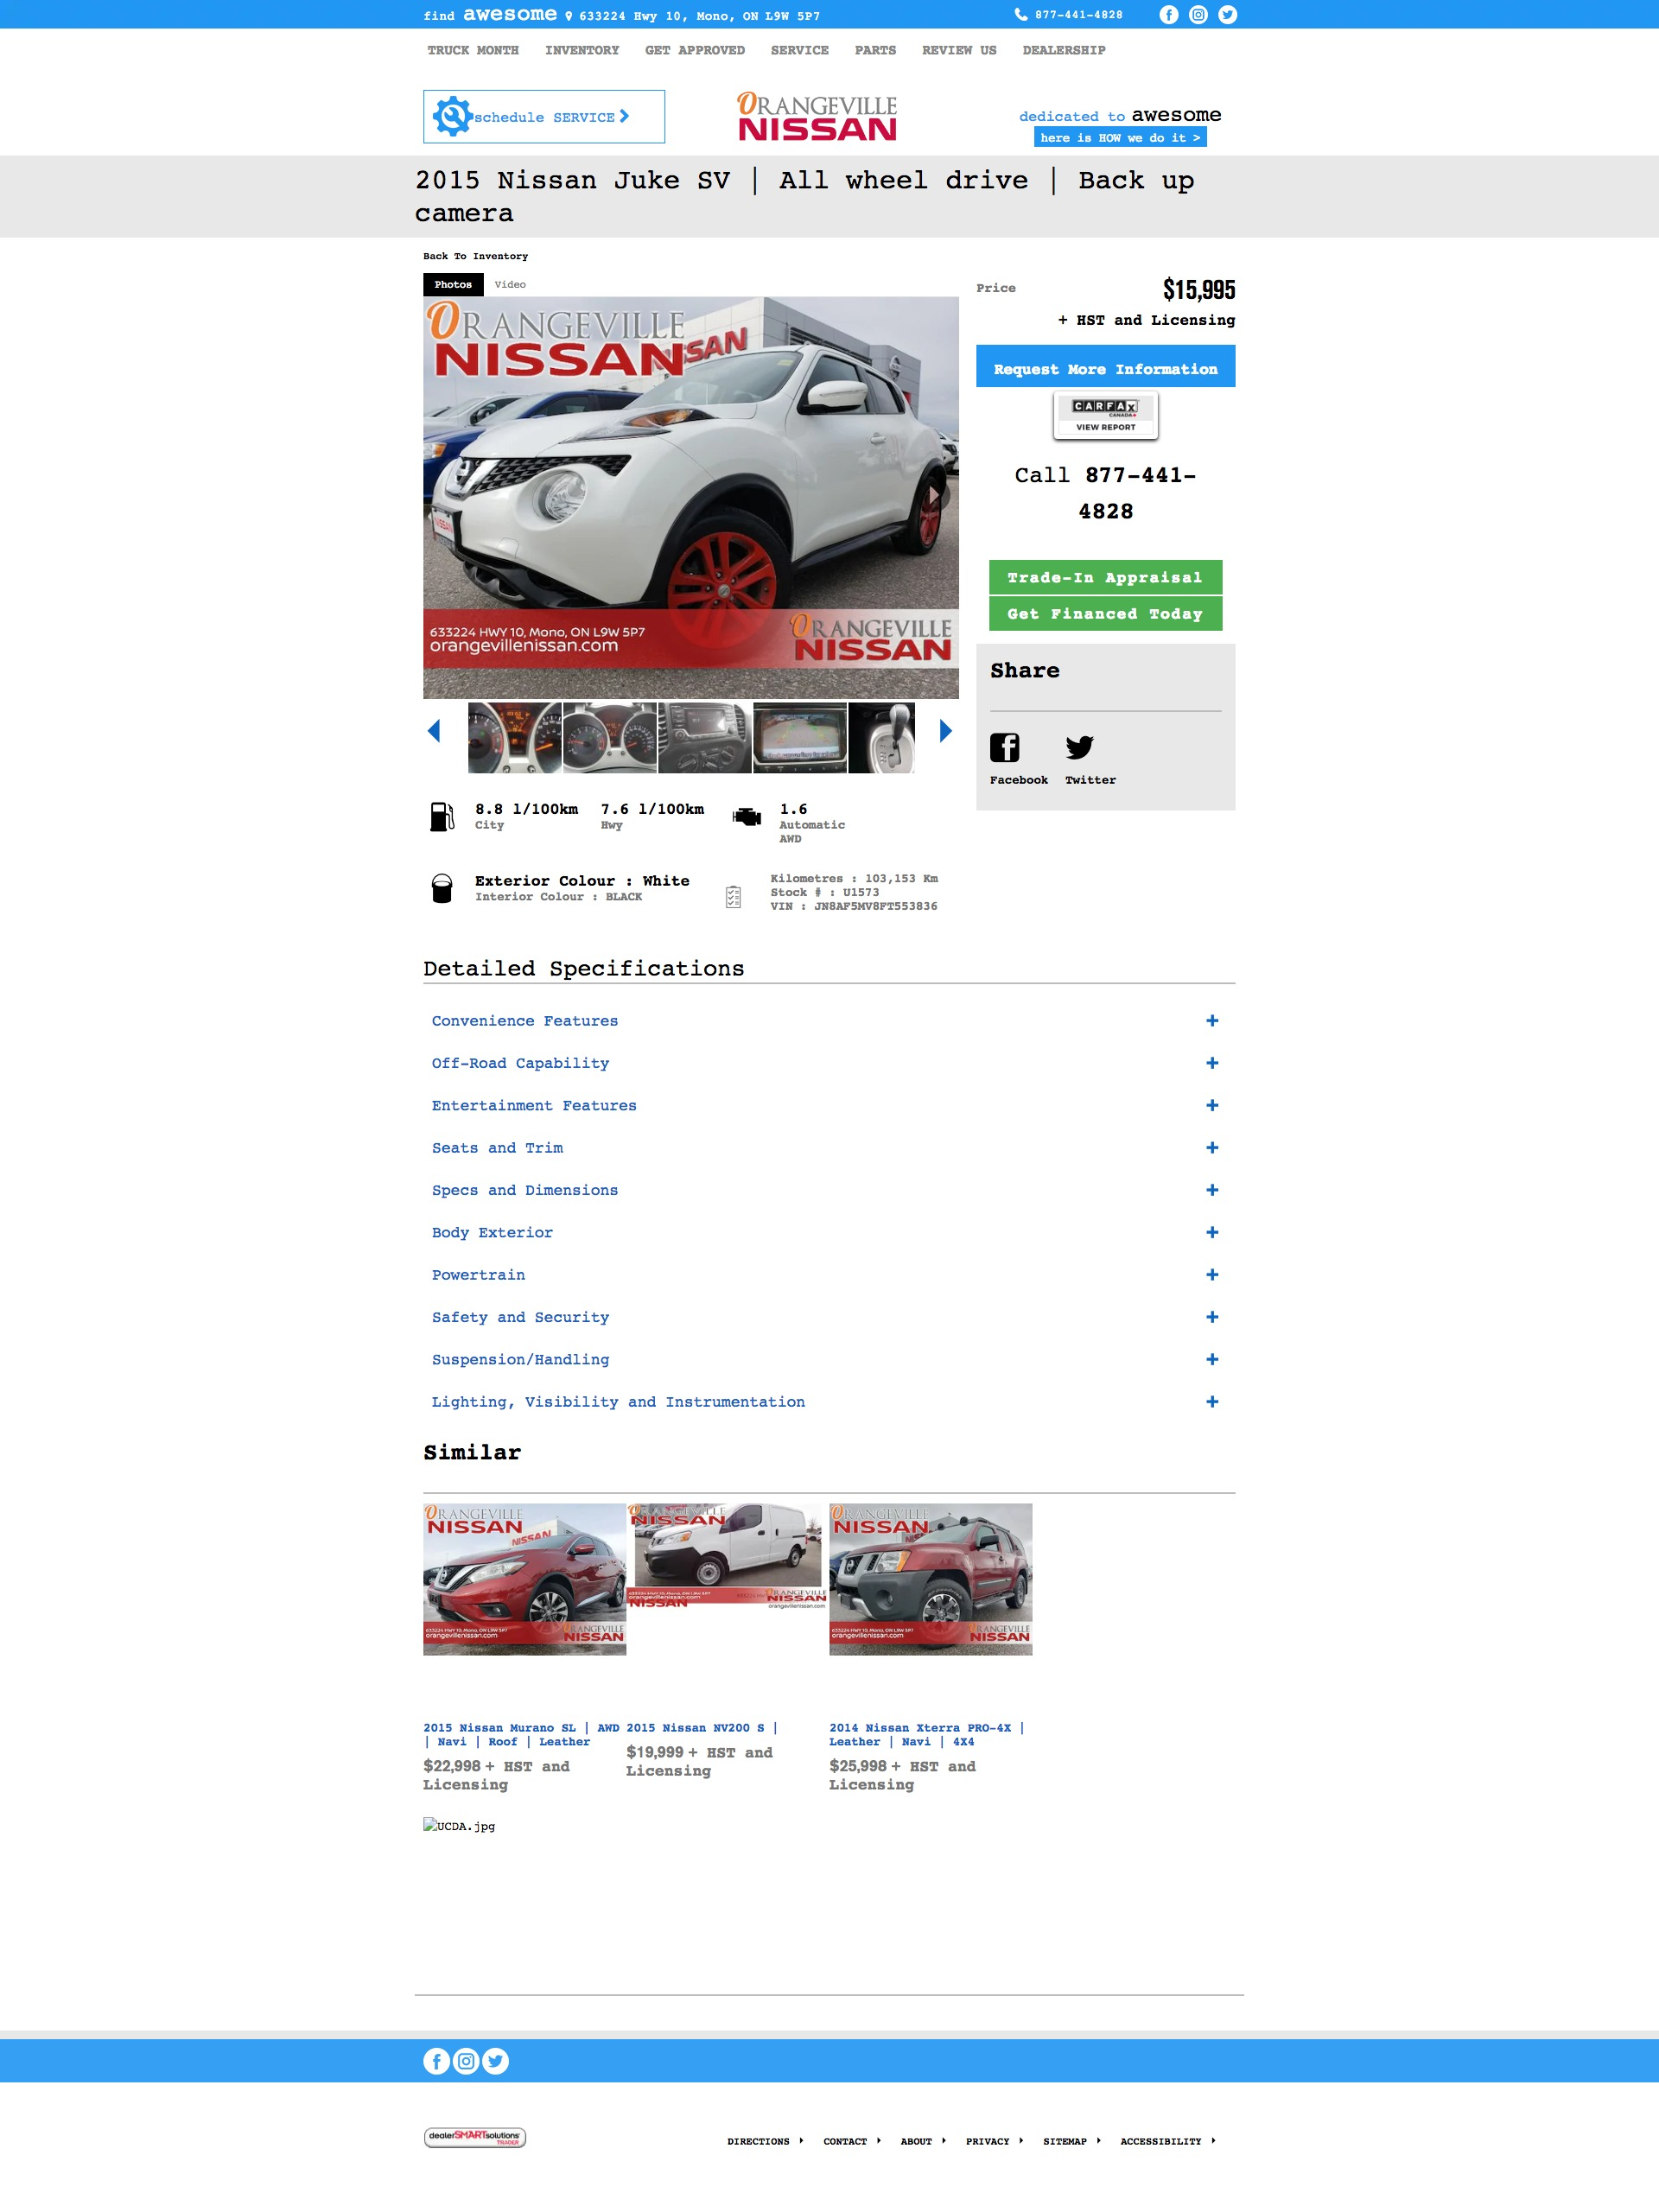car: (939, 719, 953, 745)
